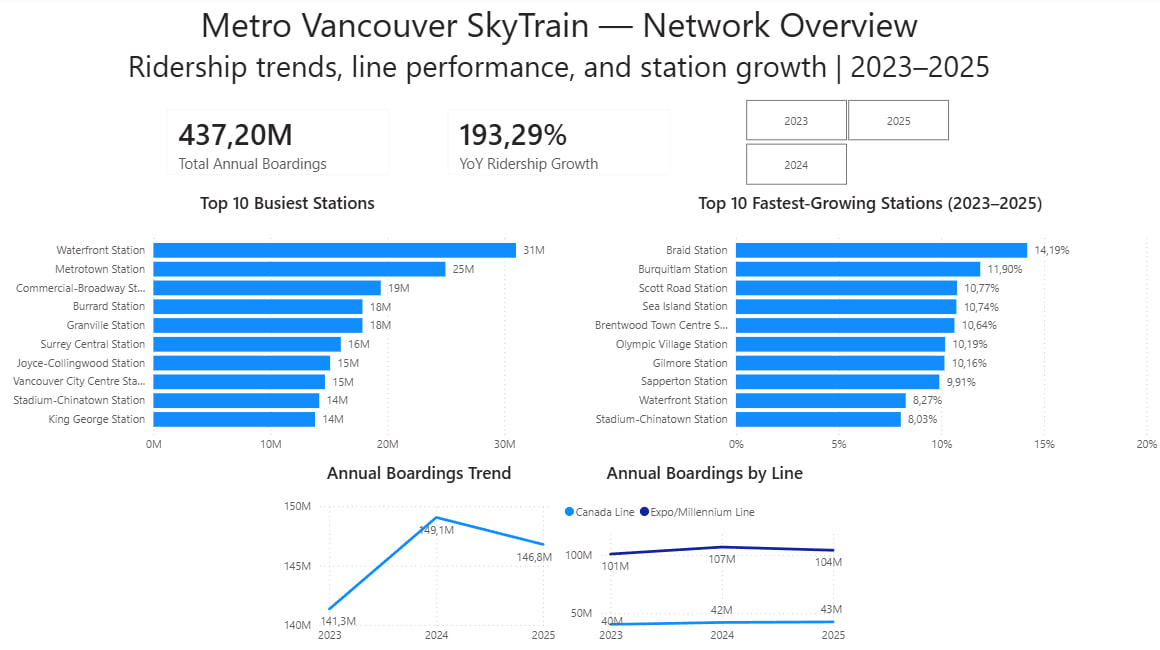

This screenshot's page, from the dashboard's own definition file:
{"tool":"powerbi","page":{"name":"Network Overview","canvas":[1280,720],"ordinal":0},"visuals":[{"type":"cardVisual","fields":{"Data":["public line_ridership.Total Annual Boardings"]},"box":[170.2,107,279.9,107],"z":0},{"type":"cardVisual","title":"YoY Ridership Growth","fields":{"Data":["public line_ridership.YoY Growth %"]},"box":[478.9,107,279.9,107],"z":1000},{"type":"slicer","fields":{"Values":["DimYear.Year"]},"box":[797.3,107,273.1,107],"z":2000},{"type":"lineChart","title":"Annual Boardings Trend","fields":{"Category":["DimYear.Year"],"Y":["public line_ridership.Total Annual Boardings"]},"box":[310.1,510.5,308.7,209.9],"z":3000},{"type":"lineChart","title":"Annual Boardings by Line","fields":{"Category":["DimYear.Year"],"Y":["public line_ridership.Total Annual Boardings"],"Series":["public line_ridership.mode"]},"box":[618.9,510.5,318.4,209.9],"z":4000},{"type":"clusteredBarChart","title":"Top 10 Busiest Stations","fields":{"Category":["public station_year.station_name"],"Y":["Sum(public station_year.annual_station_brdgs)"]},"box":[0,214.1,639.5,296.4],"z":5000},{"type":"clusteredBarChart","title":"Top 10 Fastest-Growing Stations (2023–2025)","fields":{"Category":["public station_year.station_name"],"Y":["public station_year.Station Growth 2023-2025 %"]},"box":[639.5,214.1,640.8,296.4],"z":6000},{"type":"textbox","box":[123.5,0,989.4,107],"z":7000}]}

Visuals, with their boxes in screenshot pixels (x1, y1, x2, y2), scaled from the page's 1280x720 canvas onto the 1160x650 screenshot:
cardVisual - public line_ridership.Total Annual Boardings: [left=154, top=97, right=408, bottom=193]
"YoY Ridership Growth" cardVisual: [left=434, top=97, right=688, bottom=193]
slicer - DimYear.Year: [left=723, top=97, right=970, bottom=193]
"Annual Boardings Trend" lineChart: [left=281, top=461, right=561, bottom=649]
"Annual Boardings by Line" lineChart: [left=561, top=461, right=849, bottom=649]
"Top 10 Busiest Stations" clusteredBarChart: [left=0, top=193, right=580, bottom=461]
"Top 10 Fastest-Growing Stations (2023–2025)" clusteredBarChart: [left=580, top=193, right=1159, bottom=461]
textbox: [left=112, top=0, right=1009, bottom=97]
